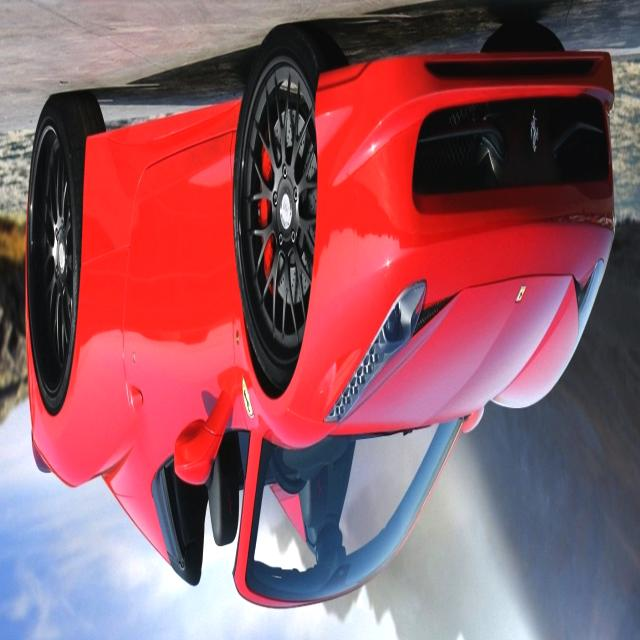red: (25, 51, 618, 620)
